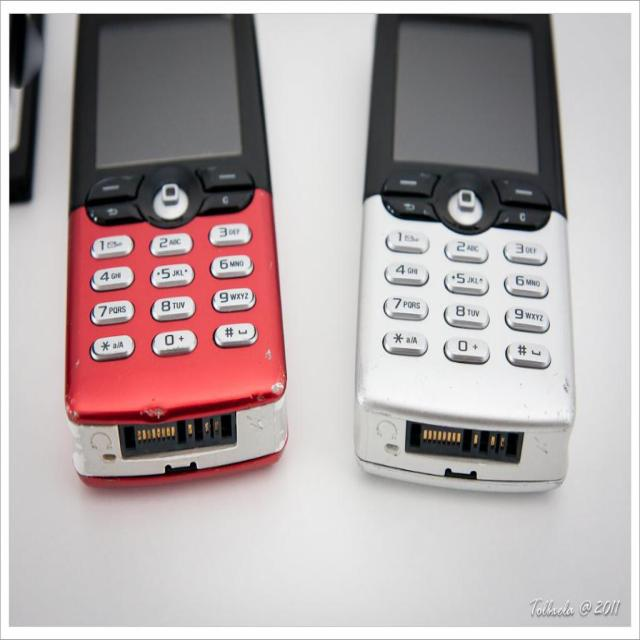Mobile-phone: (64, 13, 290, 491), (351, 12, 576, 490)
